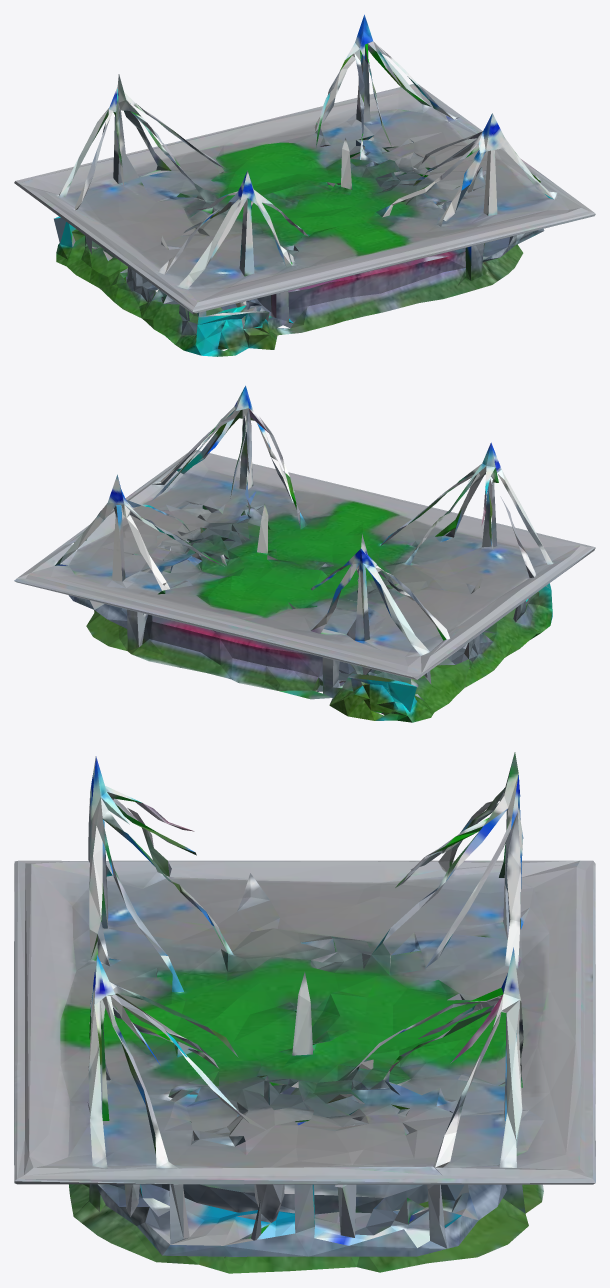
The model's file is hard_rock_stadium.glb.
3 views of the same model, one above another, from view 1: azimuth 30°, elevation 25°; view 2: azimuth 150°, elevation 25°; view 3: azimuth 270°, elevation 25° (orthographic). The views are drawn at different scales.
Visible parts, largest first — view 1: tmplgxs4ily.ply; view 2: tmplgxs4ily.ply; view 3: tmplgxs4ily.ply.
Boxes of the visible parts, bbox=[...] form: tmplgxs4ily.ply: bbox=[14, 14, 595, 356]; tmplgxs4ily.ply: bbox=[14, 385, 595, 722]; tmplgxs4ily.ply: bbox=[14, 752, 595, 1273].
Size of the model in its own units: 1.96 by 0.7957 by 1.51.
Materials: 1 (1 with a texture image).
